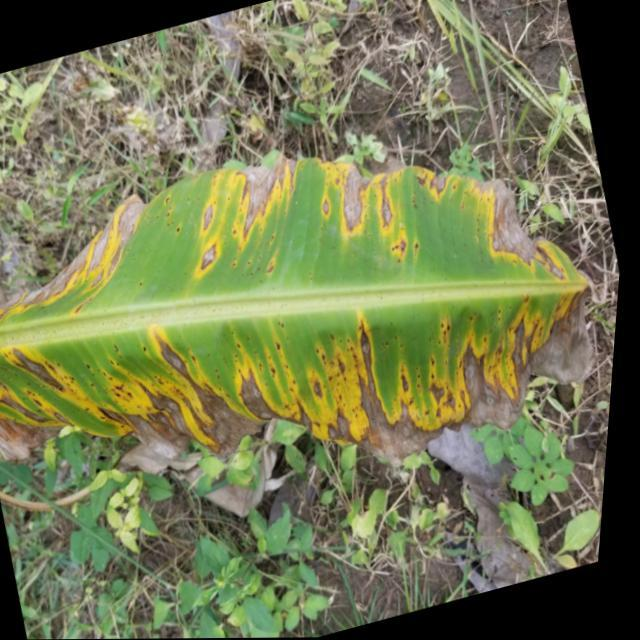Early_rust: (0, 163, 619, 494)
